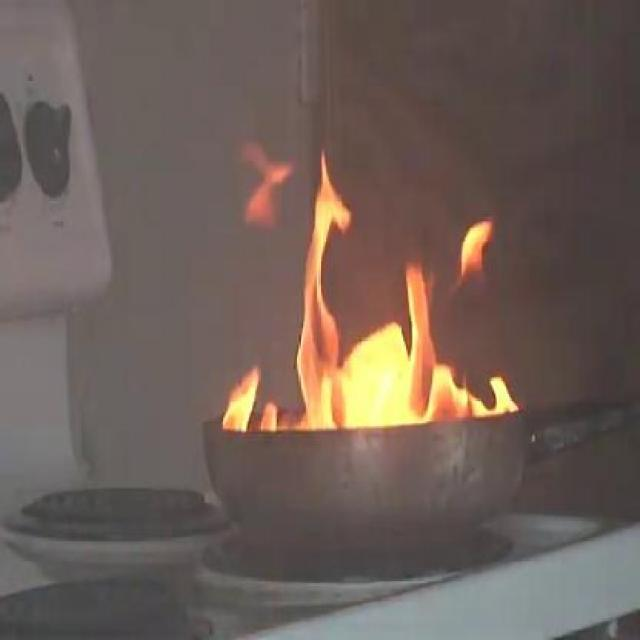fire: (294, 137, 532, 423), (234, 144, 291, 252), (222, 364, 282, 434)
